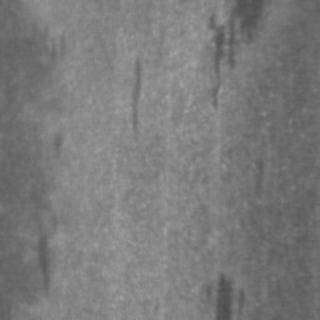inclusion: (200, 0, 240, 116), (26, 185, 60, 308), (112, 48, 154, 146), (210, 264, 246, 318)
